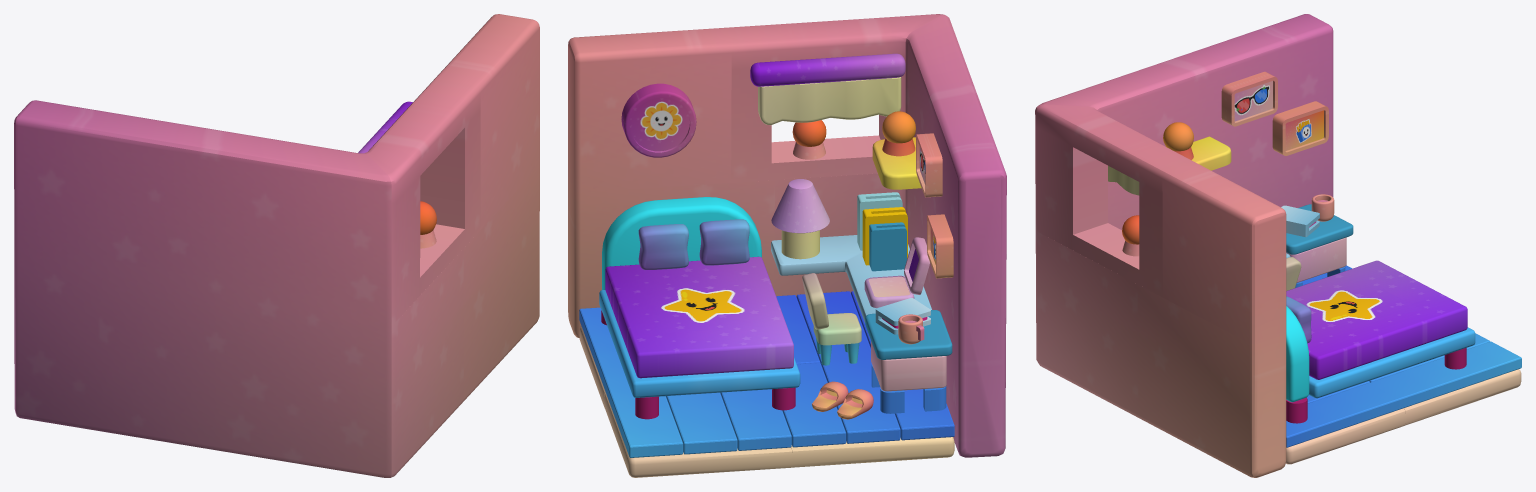
File: lvl_84.fbx
3 renders of one model, left to right at view 1: azimuth 30°, elevation 25°; view 2: azimuth 150°, elevation 25°; view 3: azimuth 270°, elevation 25°, orthographic. The views are drawn at different scales.
Visible parts, largest first — view 1: Cube_L2_14, Cube_L2_16, Cube_L2_15, Cube_L2_13, Cube_L1_1, Cube_L1_6, Cube_L1, Cube_L1_2, Cube_L1_8, Cube_L1_3, Cube_L1_4, Cube_L1_9; view 2: Cube_L1_1, Cube_L3_3, Cube_L2_15, Cube_L2_13, Cube_L1_6, Cube_L1_2, Cube_L2_14, Cube_L1_5, Cube_L3_4, Cube_L2_5, Cube_L2_12, Cube_L1 (+42 smaller); view 3: Cube_L1_6, Cube_L1_1, Cube_L1, Cube_L3_3, Cube_L2_15, Cube_L2_14, Cube_L2_5, Cube_L1_2, Cube_L1_3, Cube_L1_4, Cube_L2_13, Cube_L3_2 (+14 smaller).
Boxes of the visible parts, bbox=[...] form: Cube_L2_14: bbox=[179, 127, 391, 323]; Cube_L2_16: bbox=[179, 290, 391, 477]; Cube_L2_15: bbox=[14, 100, 196, 289]; Cube_L2_13: bbox=[14, 261, 180, 444]; Cube_L1_1: bbox=[434, 14, 539, 229]; Cube_L1_6: bbox=[462, 165, 539, 402]; Cube_L1: bbox=[390, 249, 463, 477]; Cube_L1_2: bbox=[365, 78, 480, 203]; Cube_L1_8: bbox=[420, 111, 480, 228]; Cube_L1_3: bbox=[391, 176, 420, 305]; Cube_L1_4: bbox=[391, 212, 480, 323]; Cube_L1_9: bbox=[420, 201, 436, 248]; Cube_L1_1: bbox=[568, 27, 731, 192]; Cube_L3_3: bbox=[605, 256, 793, 378]; Cube_L2_15: bbox=[933, 101, 1006, 311]; Cube_L2_13: bbox=[933, 271, 1006, 457]; Cube_L1_6: bbox=[568, 175, 774, 338]; Cube_L1_2: bbox=[725, 14, 942, 69]; Cube_L2_14: bbox=[905, 14, 980, 224]; Cube_L1_5: bbox=[758, 77, 901, 125]; Cube_L3_4: bbox=[602, 197, 761, 289]; Cube_L2_5: bbox=[579, 307, 682, 457]; Cube_L2_12: bbox=[796, 291, 900, 443]; Cube_L1: bbox=[774, 173, 905, 296]; Cube_L1_6: bbox=[1137, 284, 1286, 477]; Cube_L1_1: bbox=[1162, 162, 1286, 344]; Cube_L1: bbox=[1035, 230, 1139, 418]; Cube_L3_3: bbox=[1286, 260, 1467, 379]; Cube_L2_15: bbox=[1189, 14, 1333, 184]; Cube_L2_14: bbox=[1037, 53, 1214, 225]; Cube_L2_5: bbox=[1286, 341, 1521, 447]; Cube_L1_2: bbox=[1035, 104, 1194, 193]; Cube_L1_3: bbox=[1035, 126, 1107, 234]; Cube_L1_4: bbox=[1035, 214, 1162, 297]; Cube_L2_13: bbox=[1237, 151, 1333, 207]; Cube_L3_2: bbox=[1308, 327, 1475, 398].
Bounding box in the file's own units: 24.3 × 14.25 × 24.05.
